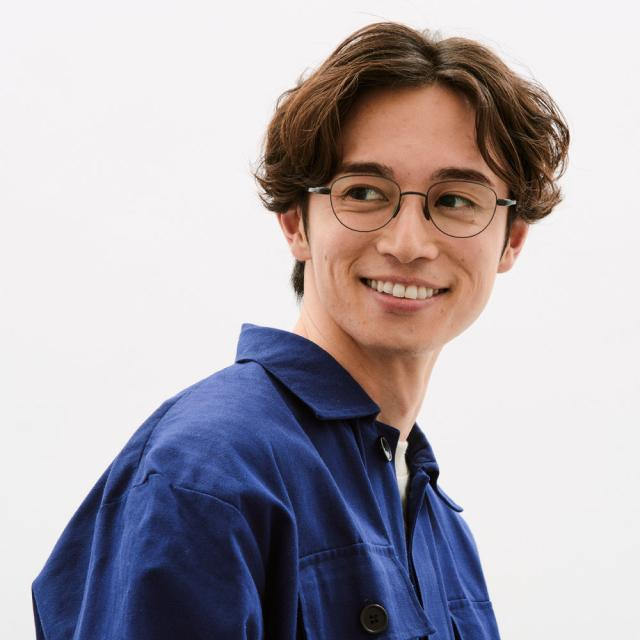glasses: (288, 164, 541, 247)
